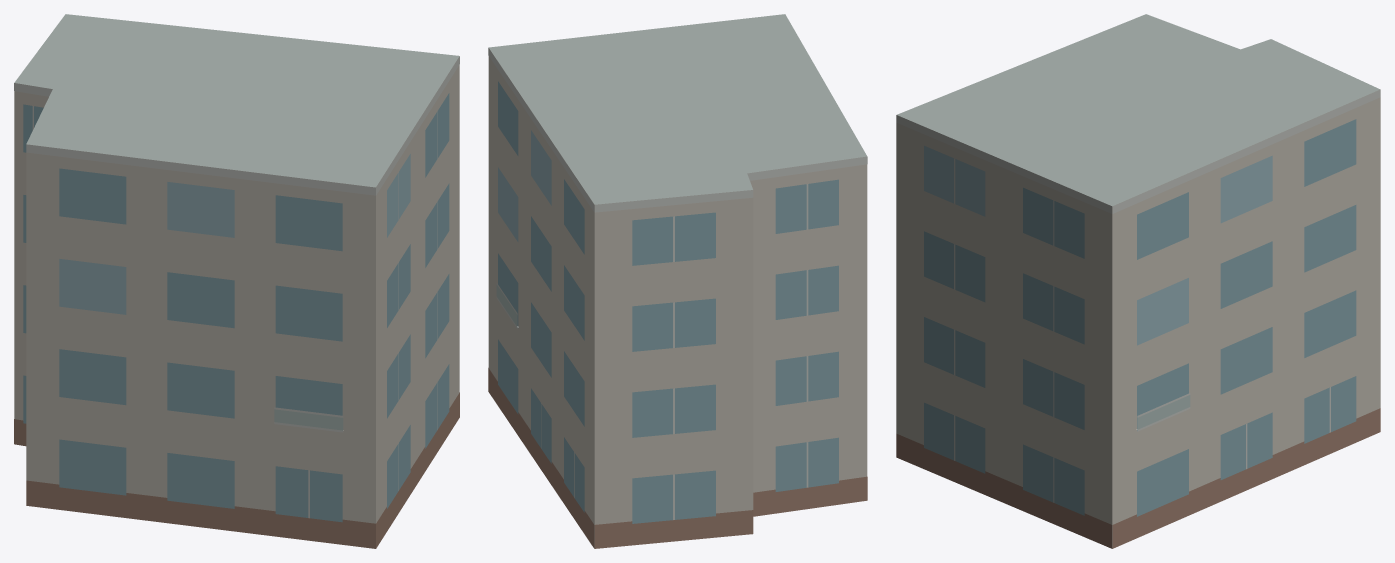
File: survey-upis-32564815.glb
The picture shows the model from 3 angles, left to right: view 1: azimuth 30°, elevation 25°; view 2: azimuth 150°, elevation 25°; view 3: azimuth 270°, elevation 25°; orthographic projection. The views are drawn at different scales.
Parts seen in each view (by area): view 1: survey-upis-32564815.tmp; view 2: survey-upis-32564815.tmp; view 3: survey-upis-32564815.tmp.
Boxes of the visible parts, x1=… form: survey-upis-32564815.tmp: x1=14, y1=14, x2=459, y2=548; survey-upis-32564815.tmp: x1=488, y1=14, x2=867, y2=548; survey-upis-32564815.tmp: x1=896, y1=14, x2=1380, y2=548.
Bounding box in the file's own units: 12.89 × 10.7 × 13.71.
